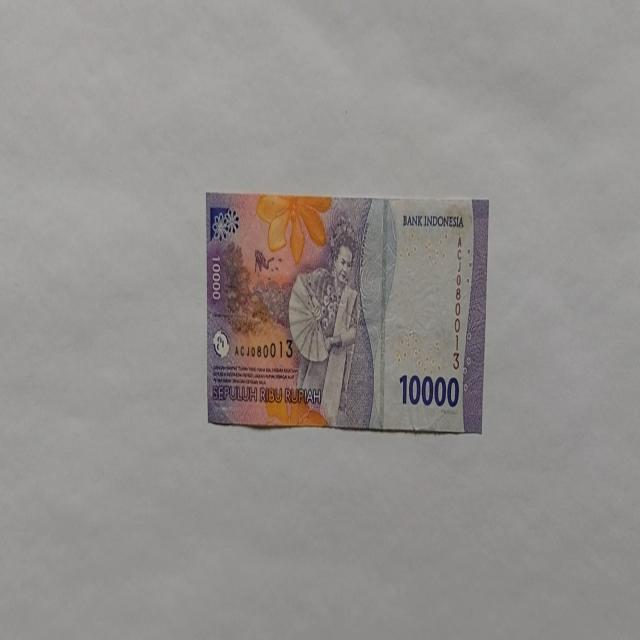sepuluh ribu rupiah: (205, 191, 490, 434)
